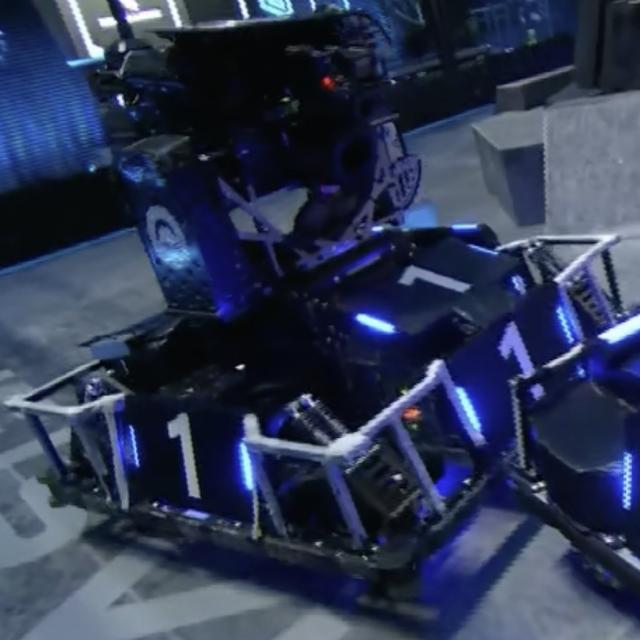B1: (462, 305, 580, 439), (354, 241, 501, 333), (128, 412, 252, 496)
